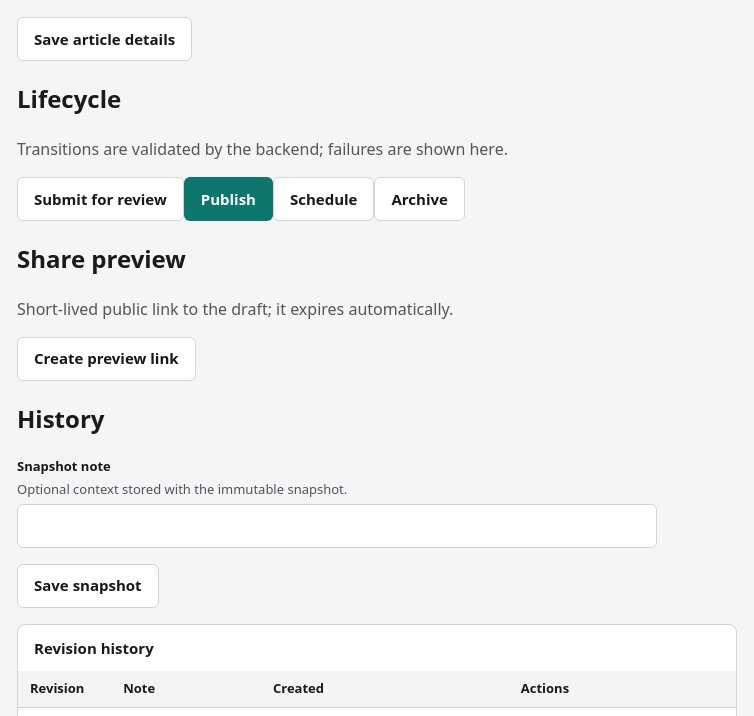
Test: ContentEditPage (ADMIN-160/170) › creates a preview share link and shows url + expiry (ADMIN-220)
The width and height of the screenshot is (754, 716).
(page scrolled)
Click the button "Create preview link". click: (106, 359)
box: [17, 337, 196, 381]
(page scrolled)
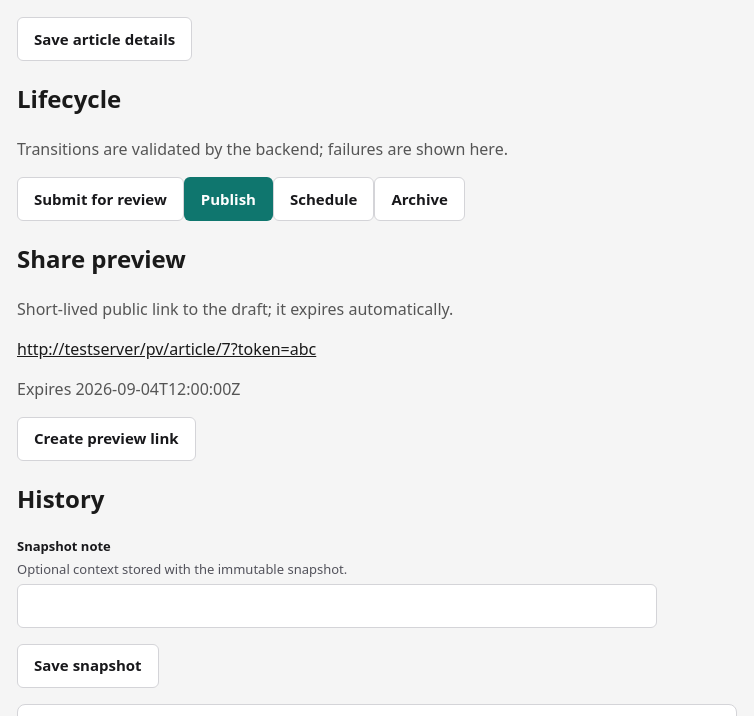
expect the link "http://testserver/pv/article/7?token=abc" is shown: met, box [17, 338, 316, 360]
expect the text "Expires 2026-09-04T12:00:00Z" is shown: met, box [17, 378, 240, 400]
